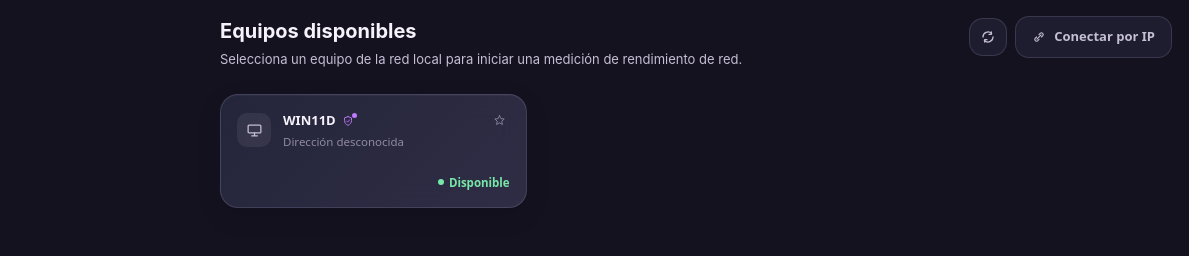
Inicio: menú contextual de un equipo › un equipo sin dirección no permite copiar la IP
Right-click the list item at (373, 151), box [220,94,527,208]
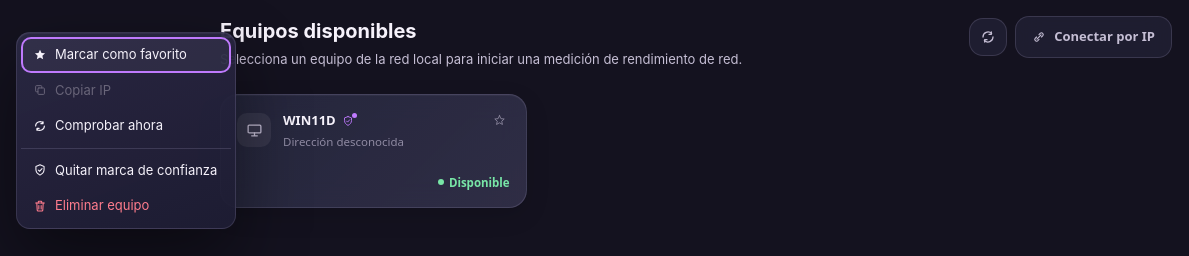
Now the menu item "Copiar IP" is disabled, box [21,72,231,108]
